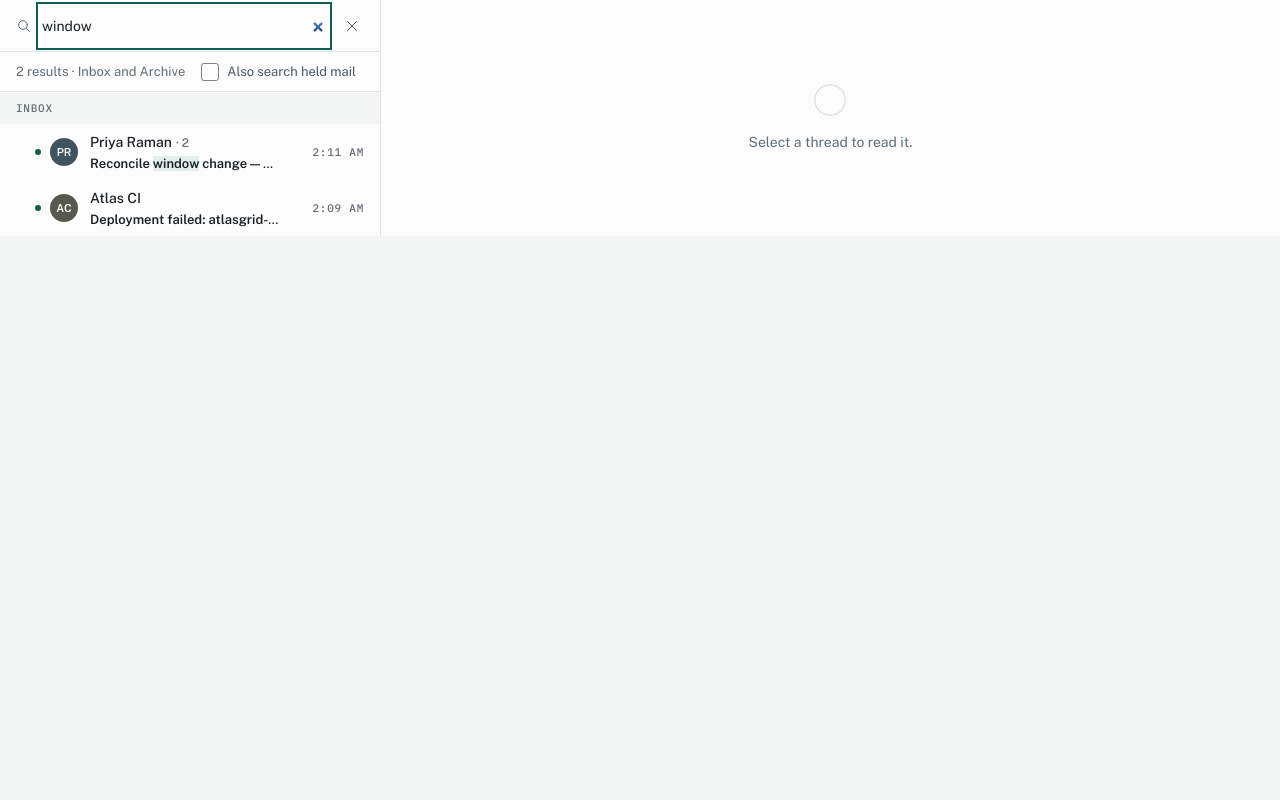
opening a result keeps the search (§5.11) › keeps the results listed after a click opens one
The image size is (1280, 800).
Click the button with aria-label "Priya Raman, Reconcile window change — my fault, 14 minutes" at [131, 142], box [26,124,380,180]
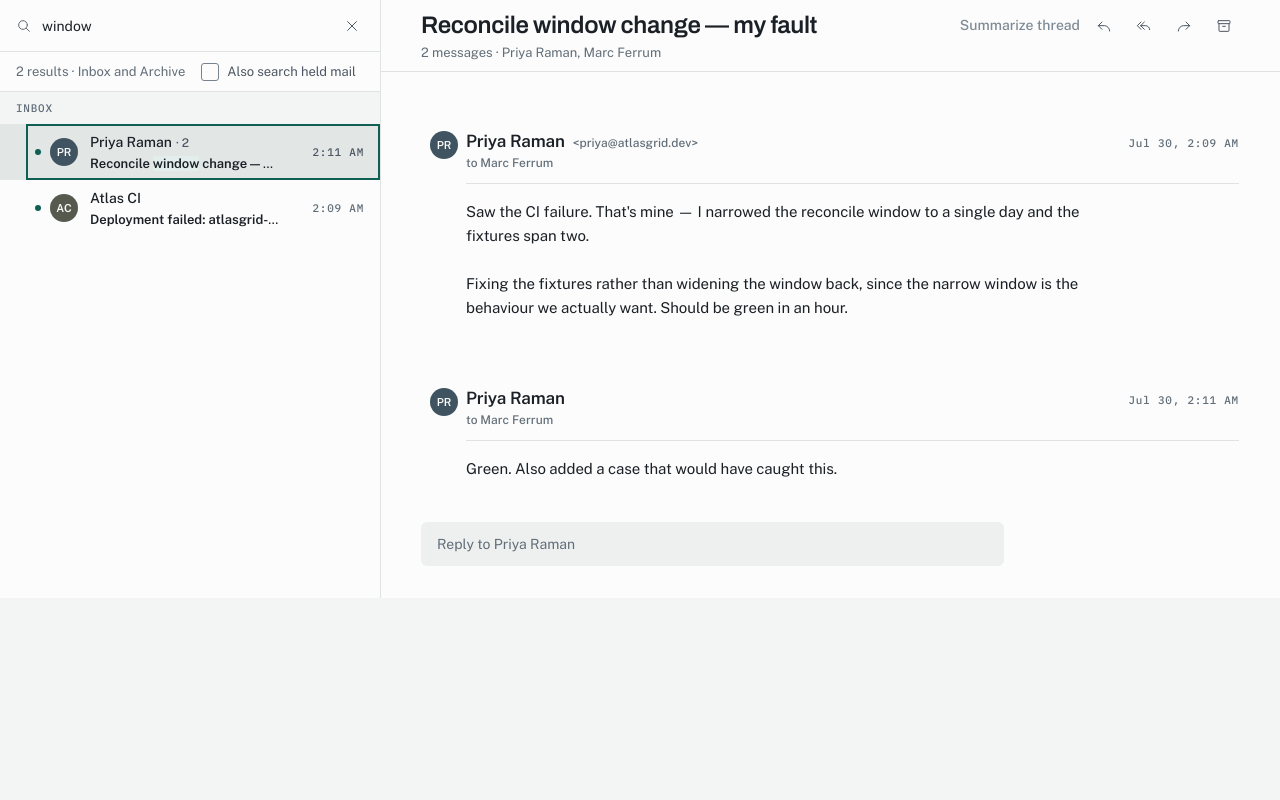
Check: the heading "Reconcile window change — my fault" is shown, box [421,10,817,40]
